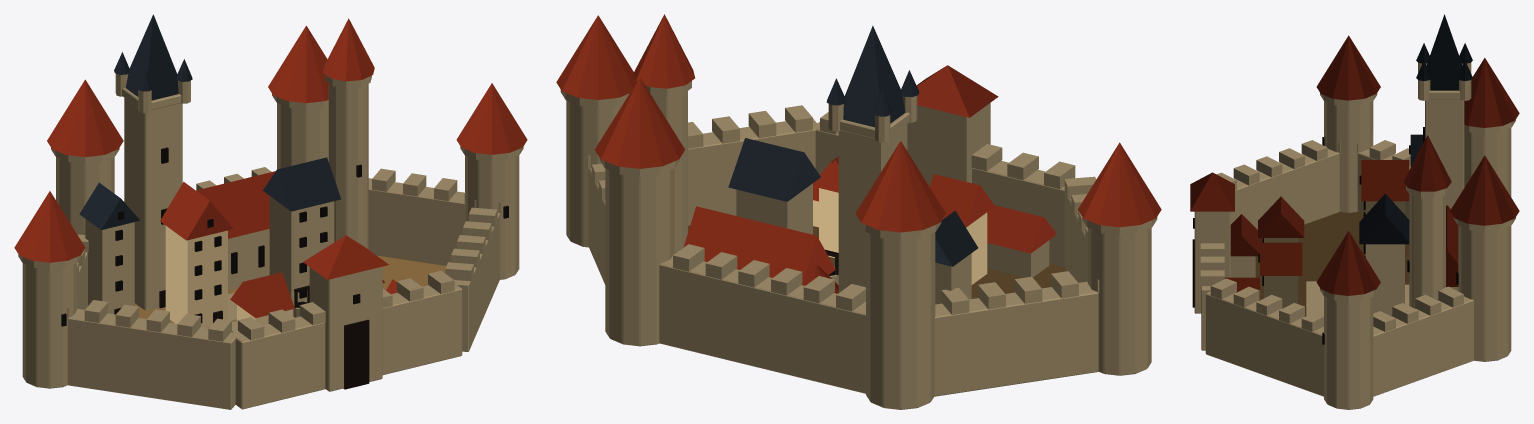
File: settle_3_6.obj
3 renders of one model, left to right at view 1: azimuth 30°, elevation 25°; view 2: azimuth 150°, elevation 25°; view 3: azimuth 270°, elevation 25°, orthographic. The views are drawn at different scales.
Visible parts, largest first — view 1: core_stone, core_roof_civic, core_plaster, core_roof_tile, core_roof_slate, core_slate, core_window, core_wood_dark, core_cloth; view 2: core_stone, core_roof_civic, core_roof_slate, core_roof_tile, core_slate, core_plaster, core_cloth; view 3: core_stone, core_roof_civic, core_roof_tile, core_cloth, core_slate, core_roof_slate, core_plaster, core_window.
Part boxes in pixels (x1,y1,x2,y2): core_stone: (18,73,523,409); core_roof_civic: (14,18,527,279); core_plaster: (165,226,287,331); core_roof_tile: (160,181,396,318); core_roof_slate: (79,157,340,230); core_slate: (114,14,192,100); core_window: (61,147,508,326); core_wood_dark: (114,285,369,389); core_cloth: (134,255,446,328); core_stone: (560,81,1157,409); core_roof_civic: (556,14,1161,293); core_roof_slate: (728,138,978,266); core_roof_tile: (813,156,1055,253); core_slate: (826,25,918,127); core_plaster: (813,188,987,284); core_cloth: (688,225,1066,298); core_stone: (1194,62,1515,409); core_roof_civic: (1190,35,1519,295); core_roof_tile: (1224,160,1409,300); core_cloth: (1255,212,1409,316); core_slate: (1416,14,1472,90); core_roof_slate: (1359,134,1423,244); core_plaster: (1264,201,1404,308); core_window: (1193,127,1458,344).
Bounding box in the file's own units: 1.87 × 1.02 × 1.17.
